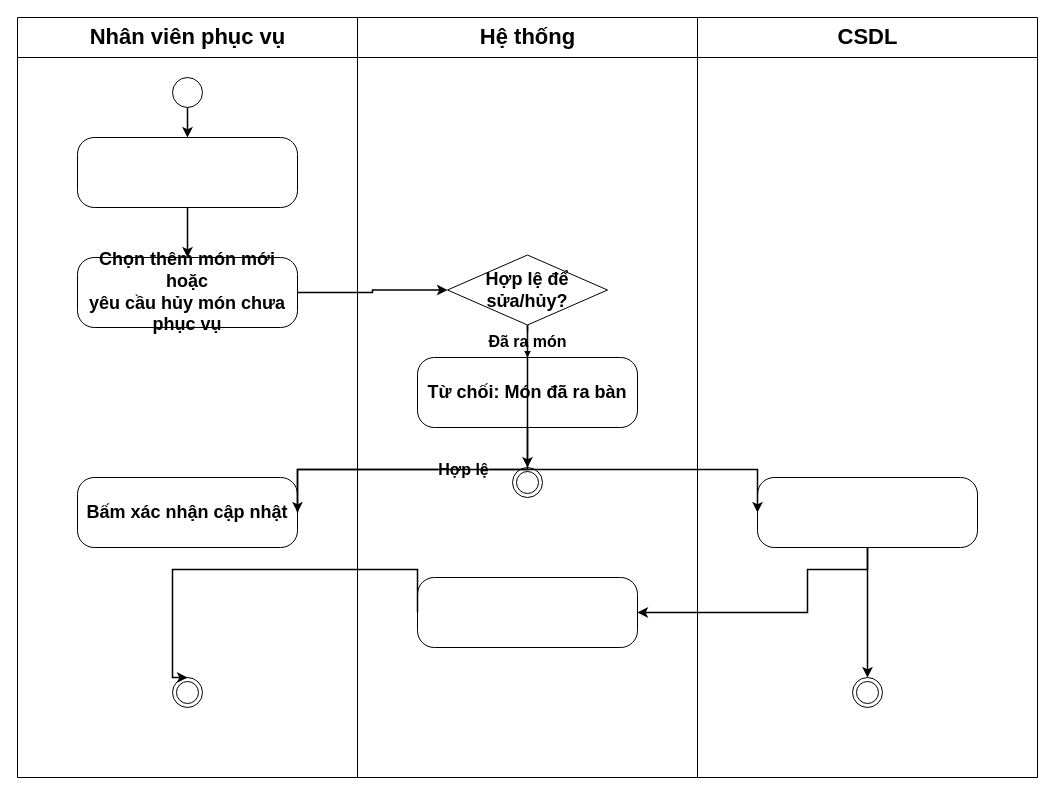
Some shapes in this 1055 by 795 pixel diagram are drawn without their labels. The centre of each missing label's shape, as x and y in pixels:
Cập nhật danh sách món & tổng tiền đơn gọi món: (867,512)
Hiển thị thông báo cập nhật đơn thành công: (527,612)
Mở đơn gọi món của bàn ăn: (187,172)
